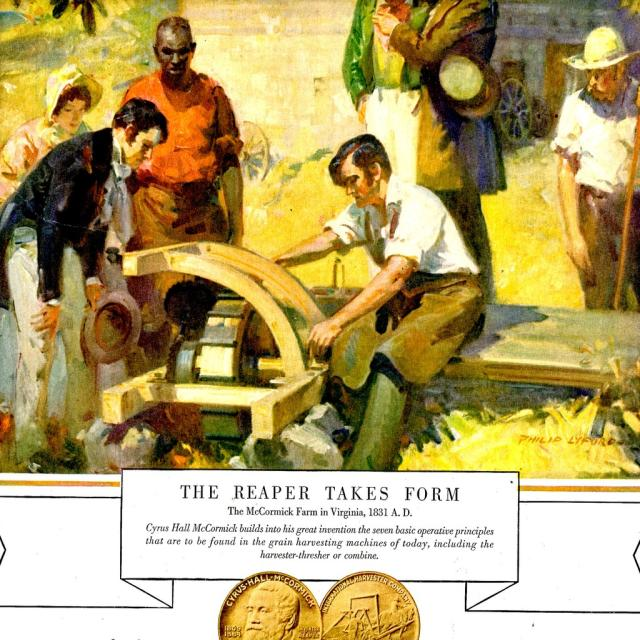Coin: (219, 571, 324, 640), (318, 570, 418, 640)
